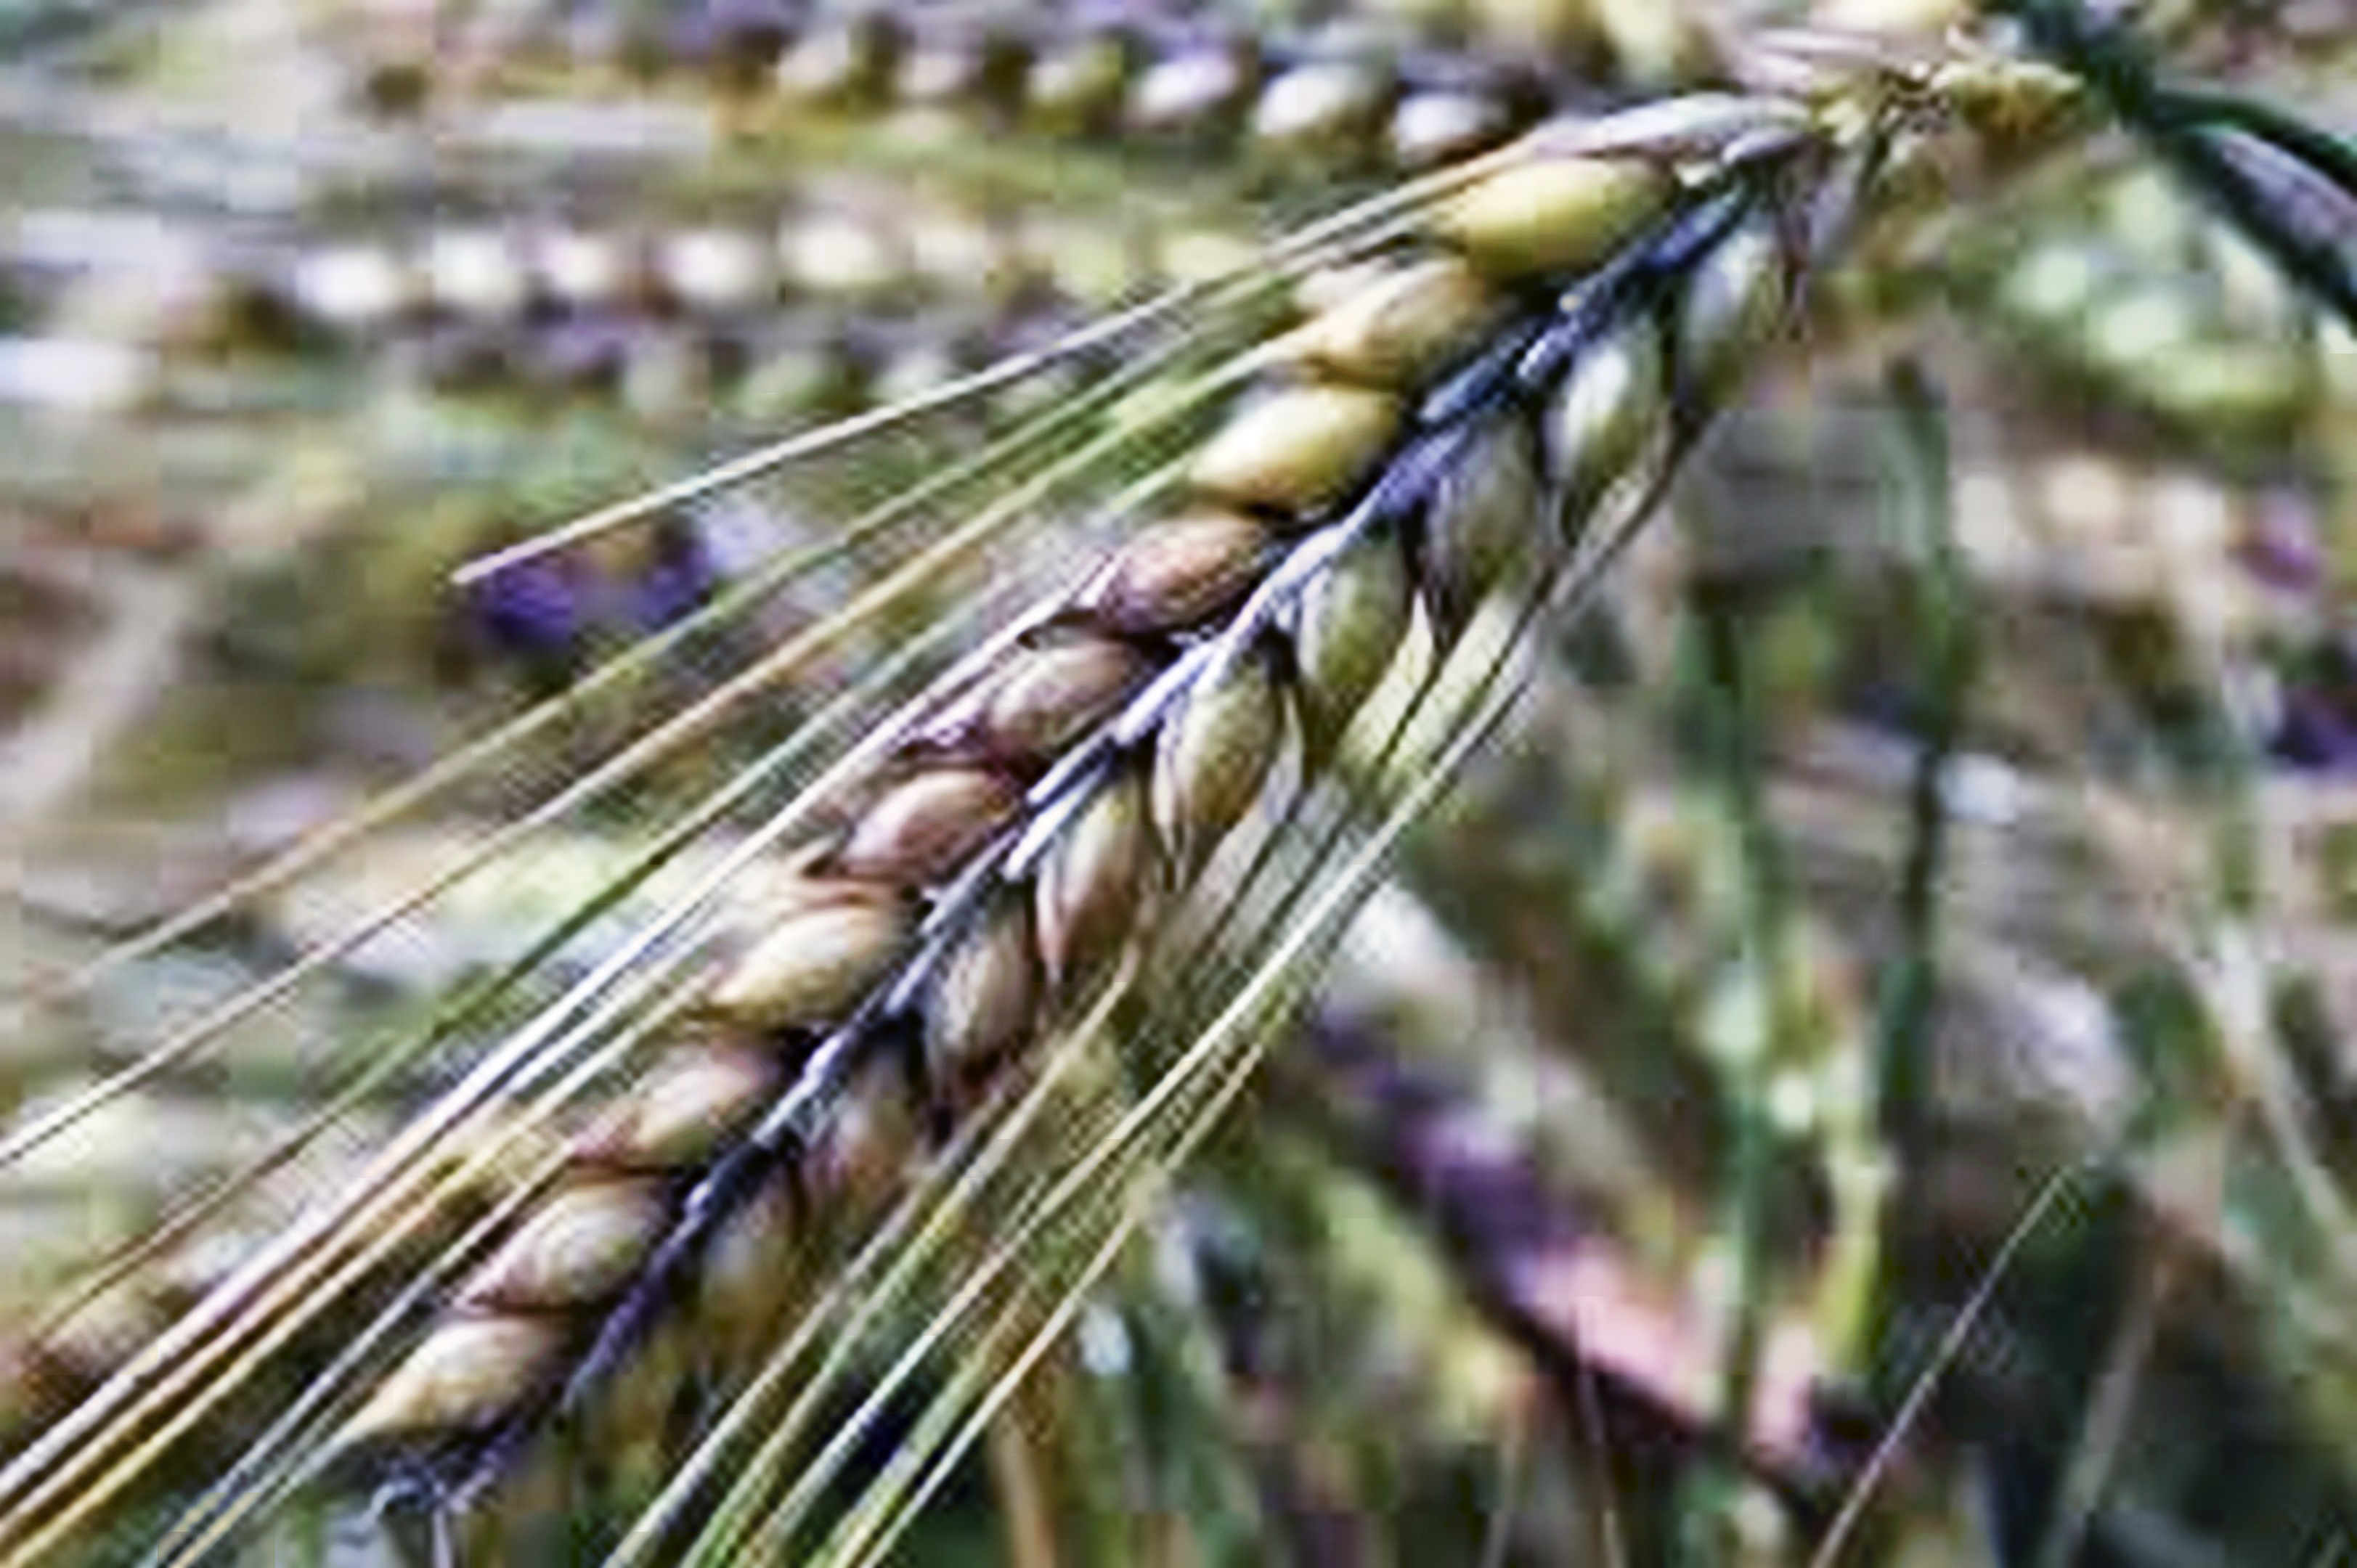Healthy Wheat: (415, 3, 2070, 1496)
